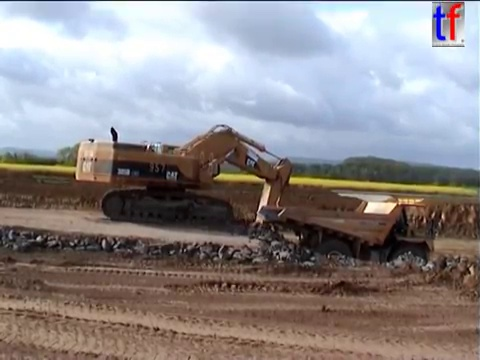excavator: (72, 122, 295, 259)
truck: (255, 195, 435, 282)
